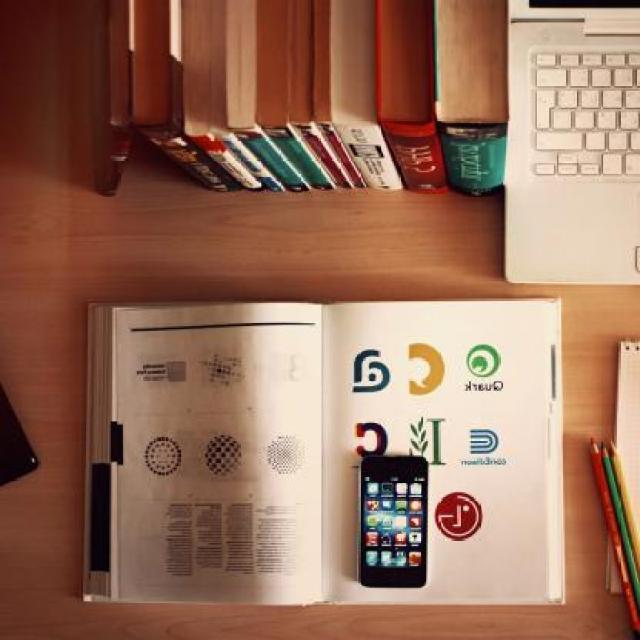phone: (354, 453, 437, 596)
